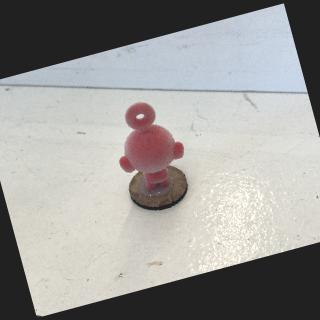teletubby: (119, 102, 184, 190)
